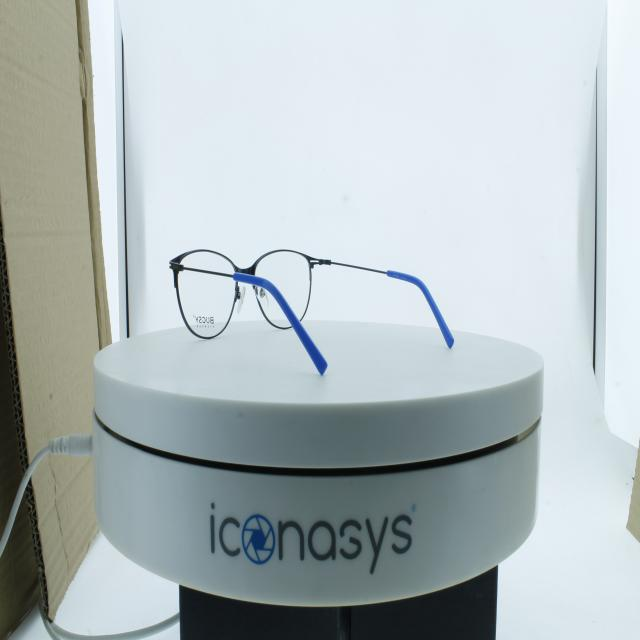Specs: (152, 218, 464, 393)
